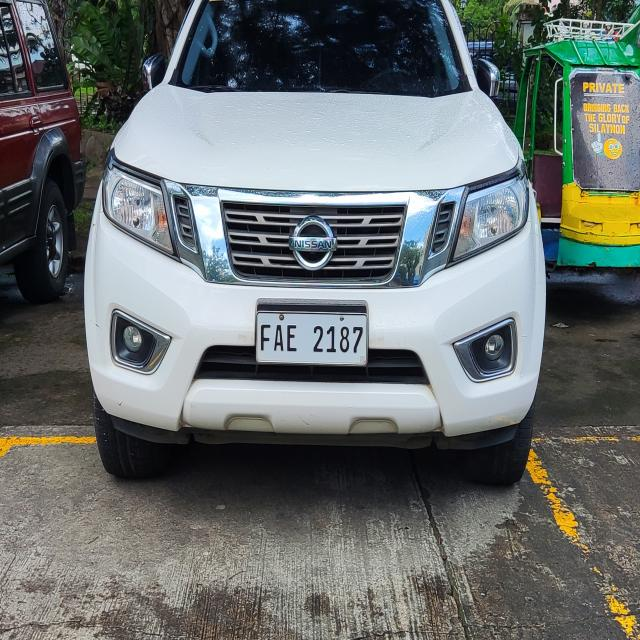plate: (254, 309, 370, 369)
